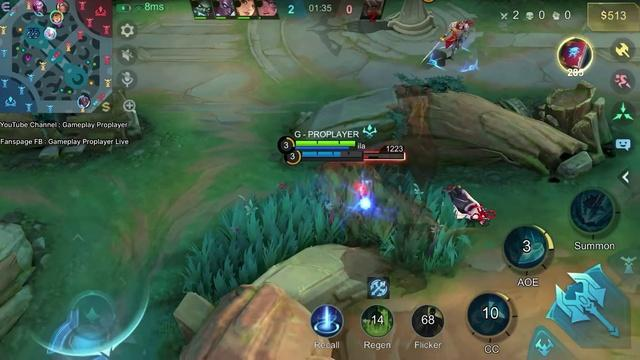Arbusto: (183, 187, 348, 300)
Buff_Red: (308, 163, 456, 292)
EXP_Lane: (0, 0, 12, 12)
Gold_Lane: (99, 100, 113, 113)
HP_Aliado: (302, 151, 362, 157)
HP_Heroe_Principal: (297, 141, 357, 146)
Lancelot: (443, 21, 468, 48)
Mana: (297, 148, 356, 151)
Minimapa: (0, 0, 114, 114)
Pasiva_Guinever: (303, 157, 363, 161)
